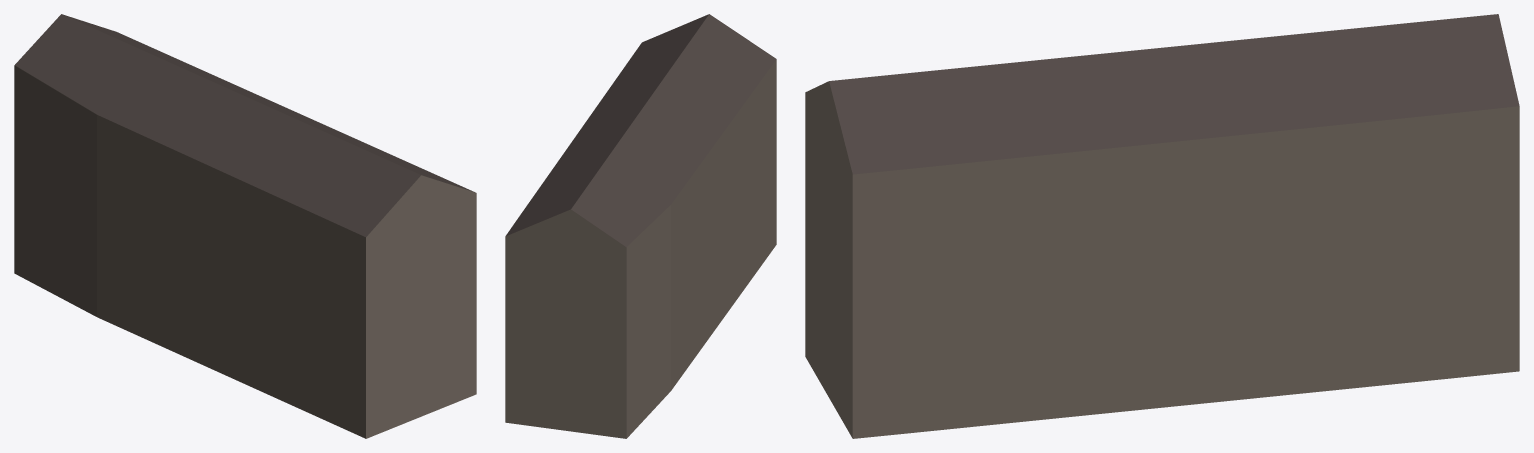
The picture shows the model from 3 angles, left to right: view 1: azimuth 30°, elevation 25°; view 2: azimuth 150°, elevation 25°; view 3: azimuth 270°, elevation 25°; orthographic projection. The views are drawn at different scales.
Parts seen in each view (by area): view 1: HP-w783664783; view 2: HP-w783664783; view 3: HP-w783664783.
Part boxes in pixels (bbox=[...]): HP-w783664783: bbox=[14, 14, 476, 438]; HP-w783664783: bbox=[505, 14, 776, 438]; HP-w783664783: bbox=[805, 14, 1519, 438].
Size of the model in its own units: 6.94 by 7.19 by 14.69.
